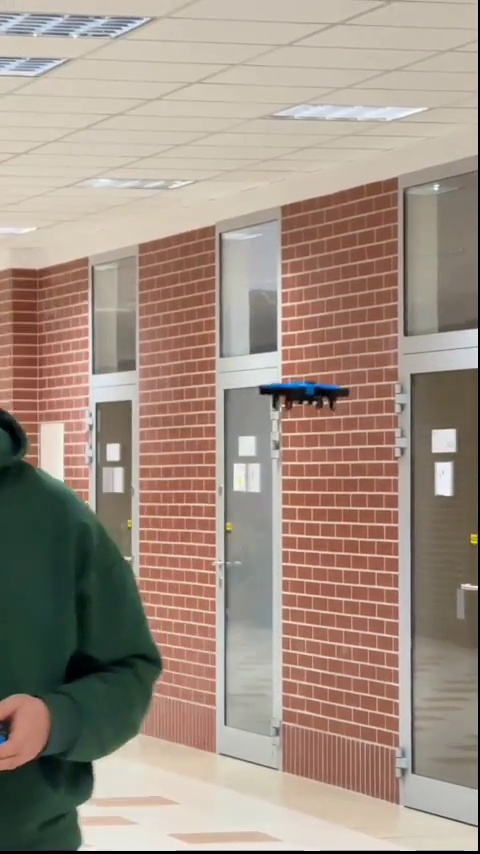drone: (258, 380, 350, 418)
no vest: (0, 401, 157, 854)
